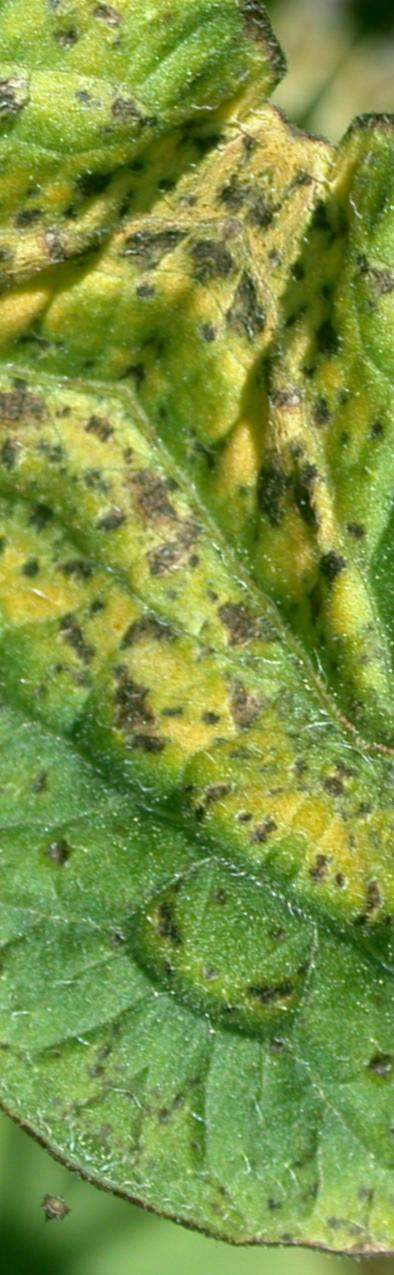Tomato leaf bacterial spot: (0, 72, 394, 1264)
